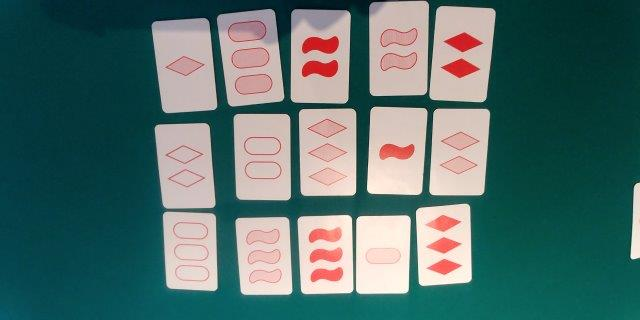1FW: (372, 112, 420, 190)
1HD: (162, 23, 207, 106)
1HP: (361, 218, 405, 291)
2ED: (163, 127, 208, 205)
2EP: (238, 116, 287, 196)
2FD: (438, 10, 485, 97)
2FW: (295, 13, 344, 100)
2HD: (436, 110, 483, 191)
2HW: (372, 4, 423, 93)
3EP: (167, 214, 213, 286)
3FD: (420, 209, 468, 282)
3FW: (303, 217, 348, 292)
3HD: (302, 111, 353, 191)
3HP: (226, 15, 274, 99)
3HW: (241, 219, 286, 291)
